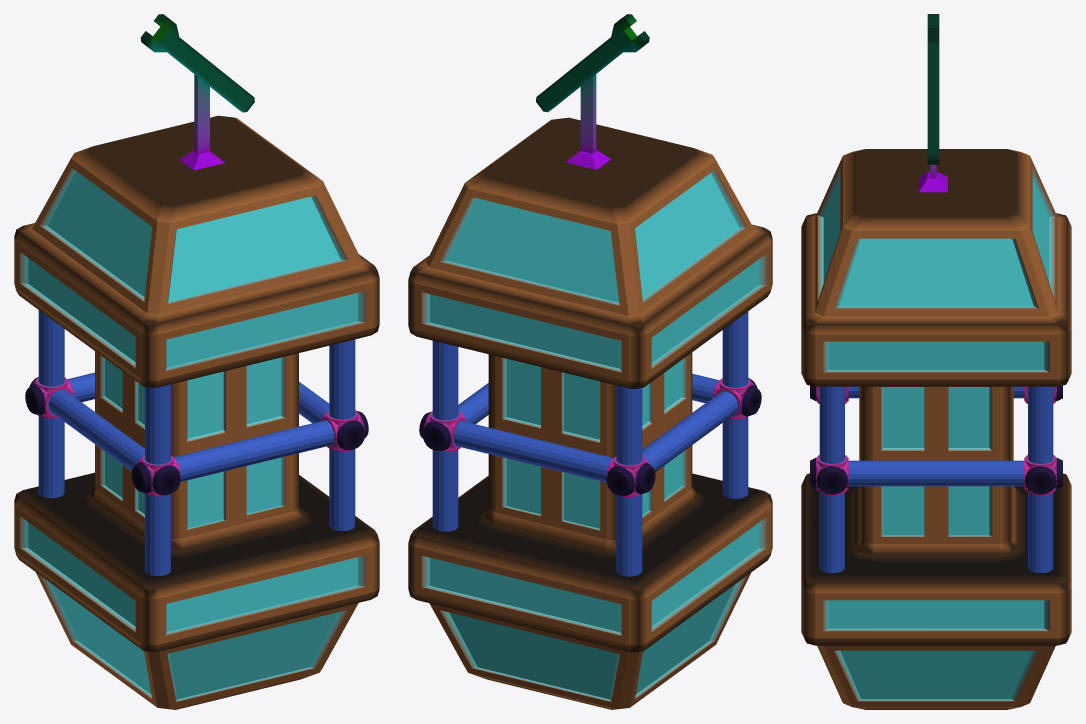
File: Repair Pod.fbx
3 renders of one model, left to right at view 1: azimuth 30°, elevation 25°; view 2: azimuth 150°, elevation 25°; view 3: azimuth 270°, elevation 25°, orthographic. The views are drawn at different scales.
Visible parts, largest first — view 1: Marker; view 2: Marker; view 3: Marker.
Part boxes in pixels (x1,y1,x2,y2): Marker: (14, 14, 379, 709); Marker: (408, 14, 772, 709); Marker: (801, 14, 1071, 709).
Bounding box in the file's own units: 175 × 461 × 175.
